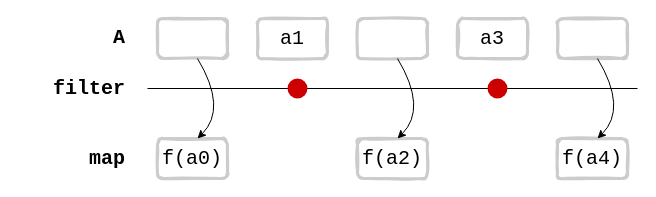
The diagram is 656 pixels wide and 197 high, and some of its shapes have lost their labels. Each missing label, with the centre of its shape:
a0: the point at 192,38
a2: the point at 392,38
a4: the point at 592,38
